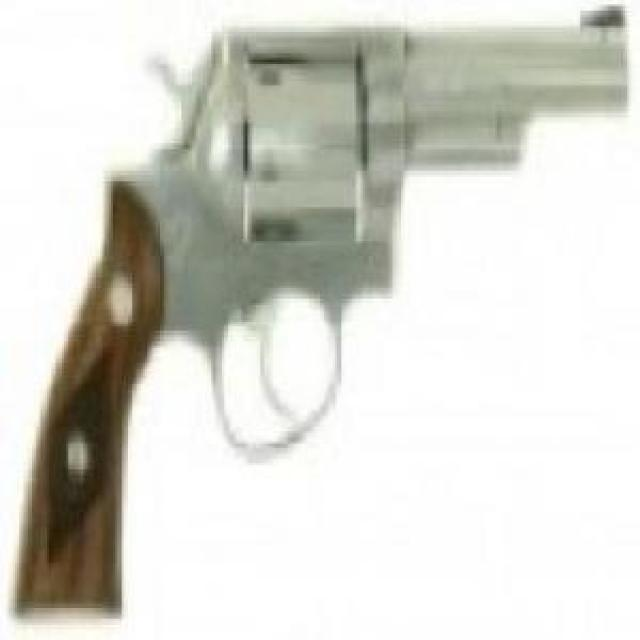pistol: (13, 6, 632, 625)
